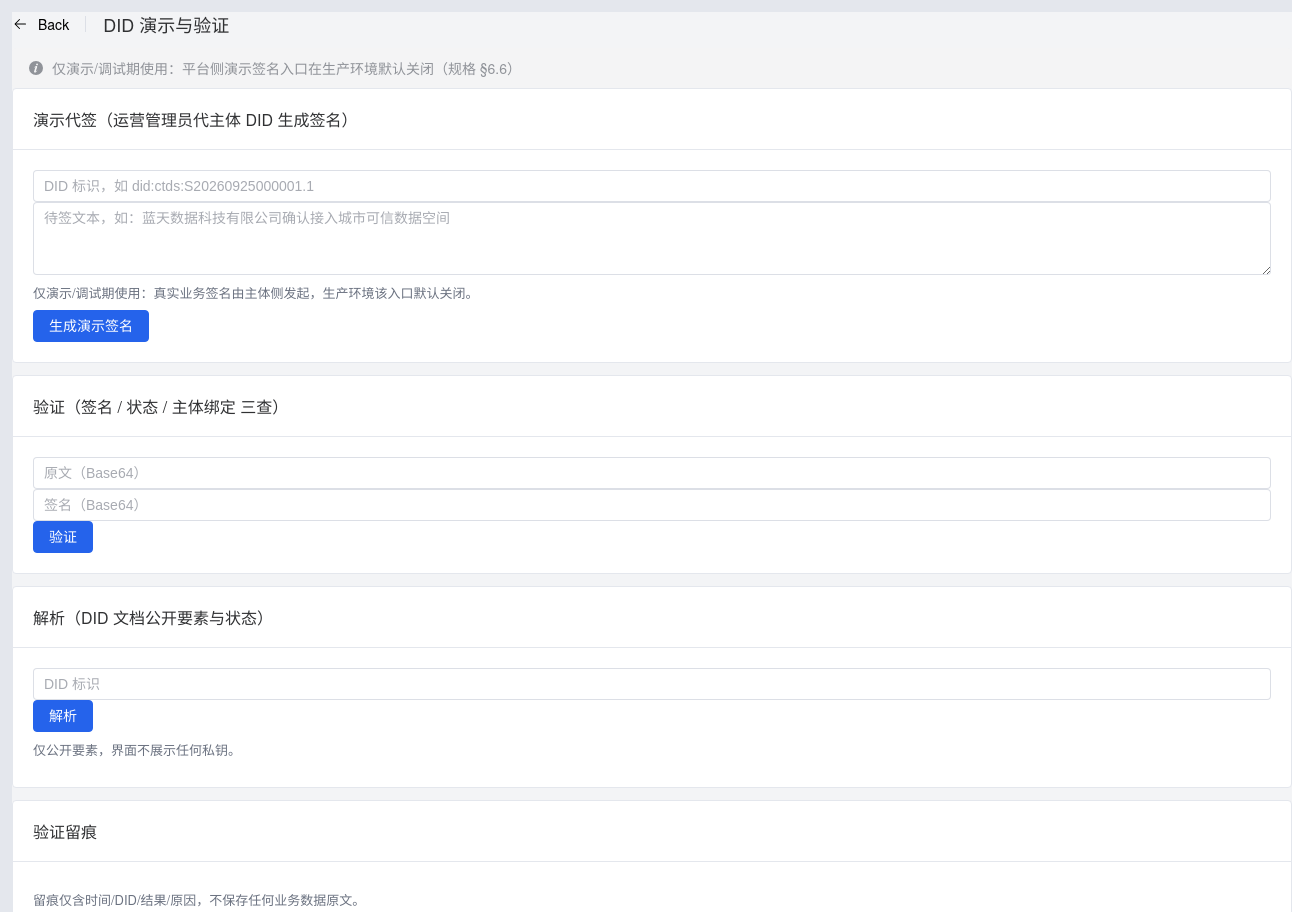
Test: DID 演示与验证页（WBS-3.1.11 T14/T15） › 解析未登记 DID：以业务答复（warning）呈现"未登记该 DID"，不用报错样式
Type "did:ctds:S20260925999999.1" into the field with placeholder "DID 标识" at (652, 684), box [44,669,1260,699]
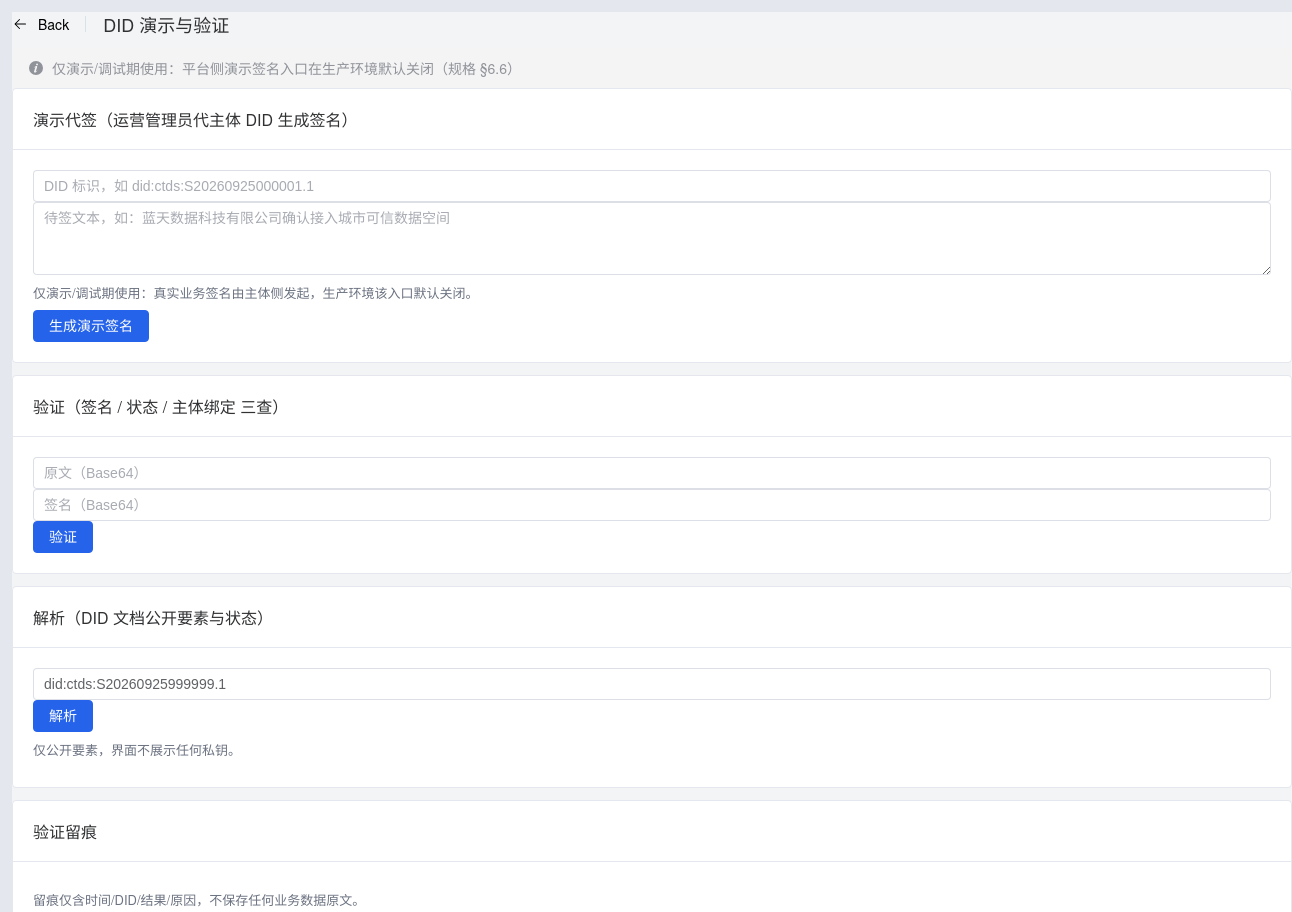
Click the button with class "resolve-btn" at (63, 716), box [33,700,93,732]
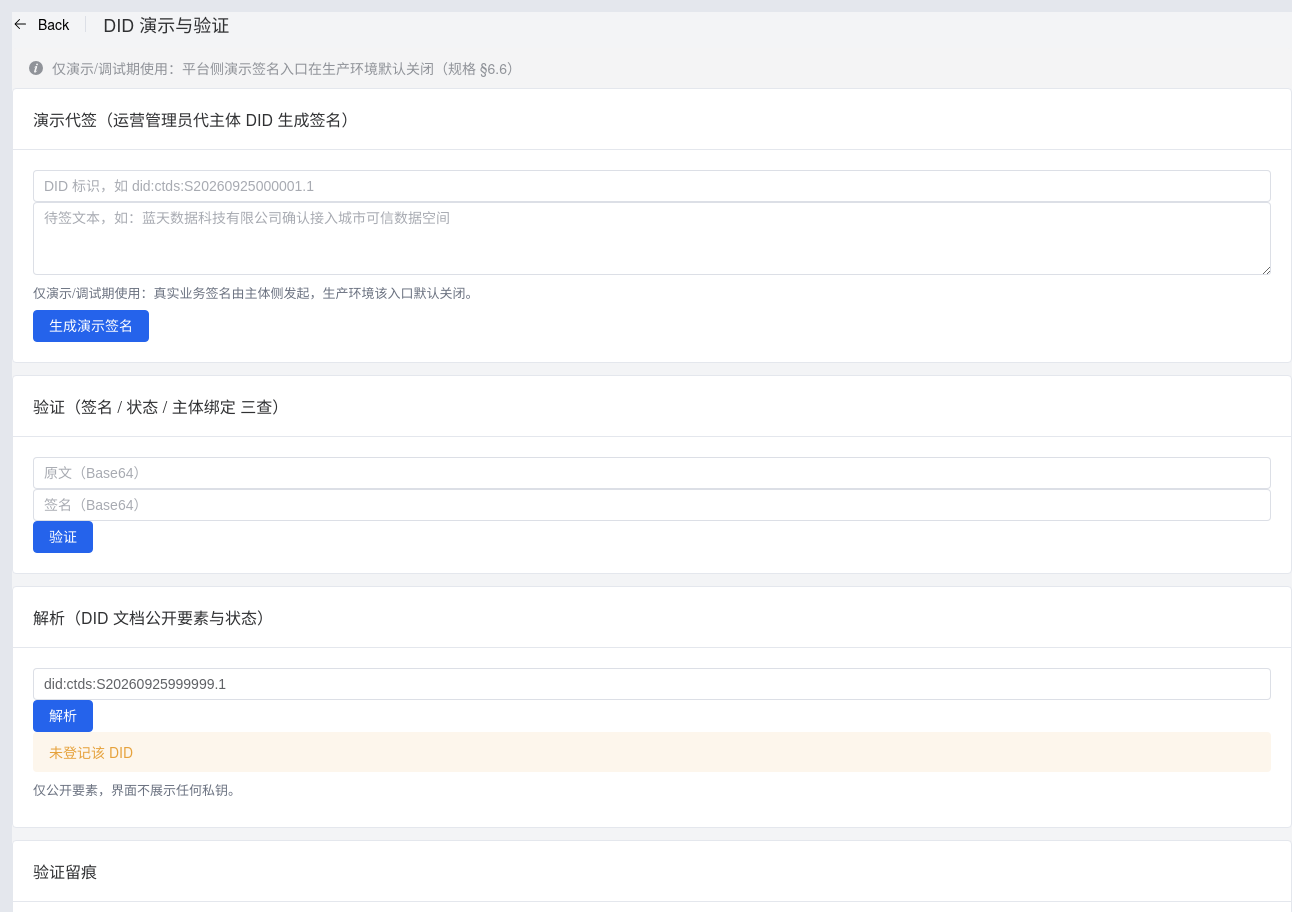
Now the element with class "resolve-alert" reads "未登记该 DID", box [49,742,133,762]
